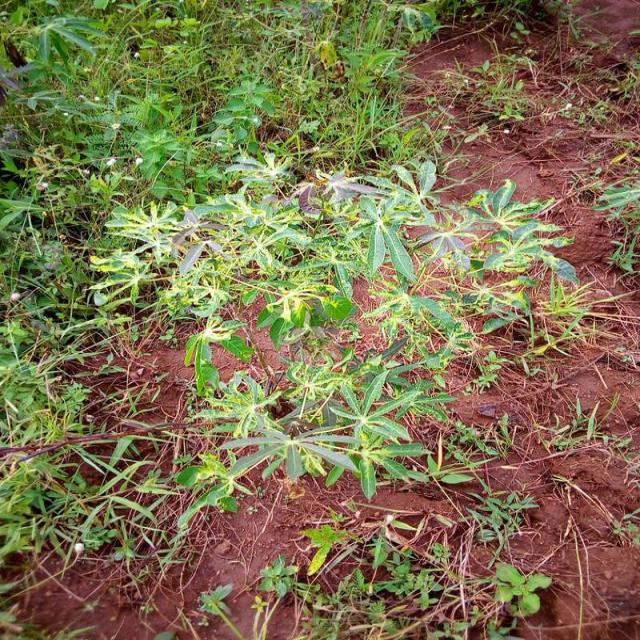cassava leaf: (86, 147, 580, 544)
